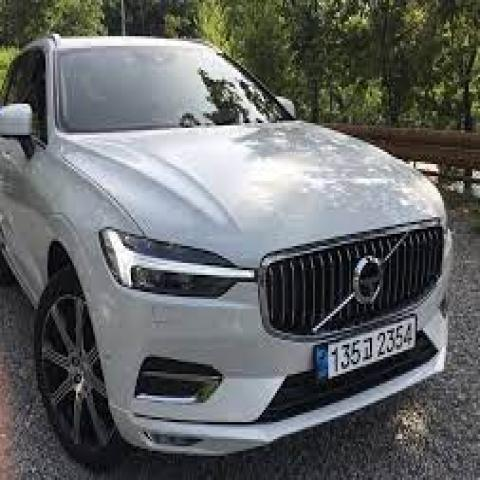LP: (303, 306, 427, 390)
